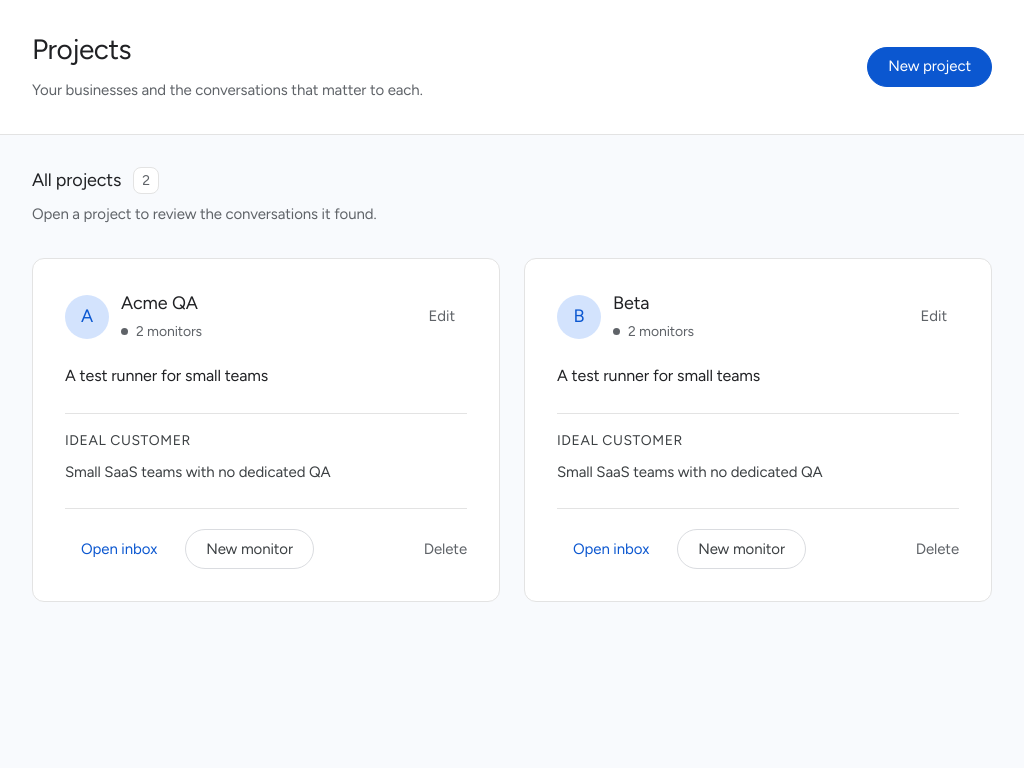
Scenario: the projects screen › deleting a project › takes the row out of the list without asking for the list again
The width and height of the screenshot is (1024, 768).
Step 1. Click the button "Delete" below "Acme QA" → [445, 549], box x1=424 y1=530 x2=467 y2=569
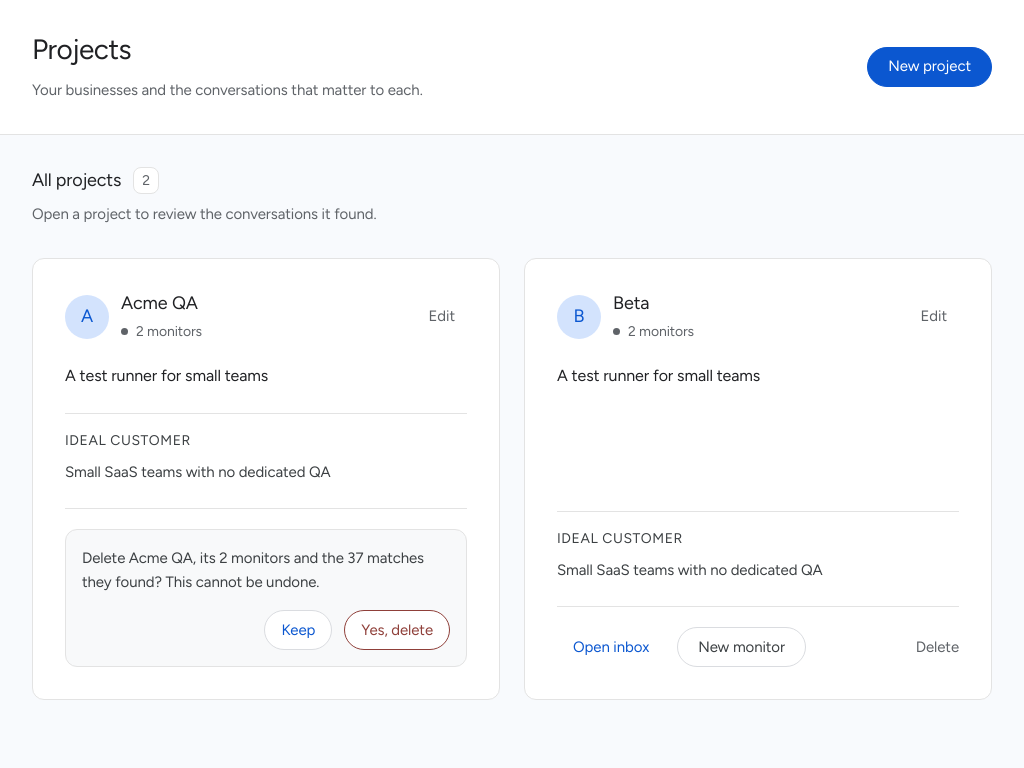
Step 2. Click the button "Yes, delete" → [397, 630], box x1=344 y1=610 x2=450 y2=650
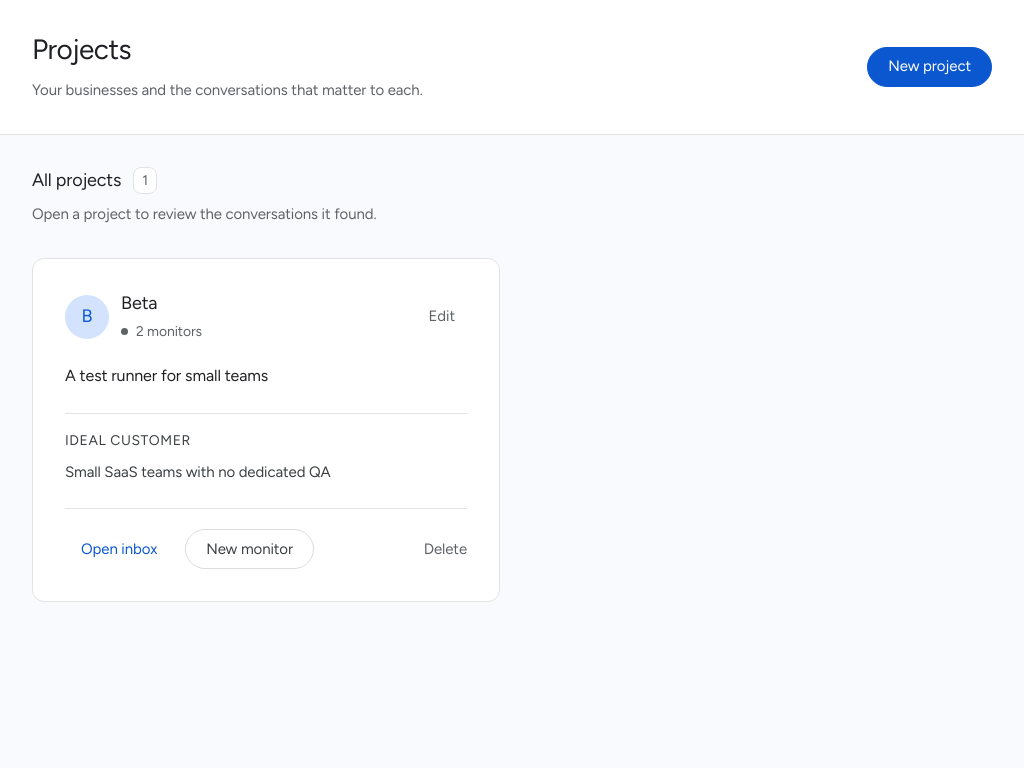
Check: the text "Beta" is shown, box x1=121 y1=292 x2=157 y2=314
Check: the text "Acme QA" is gone
